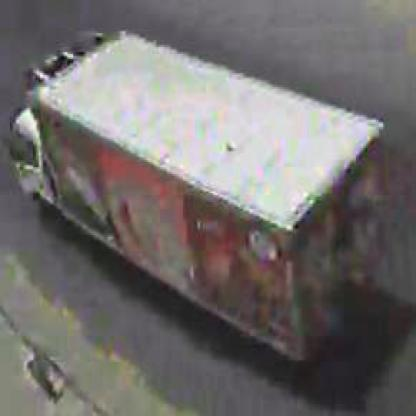truck: (11, 32, 386, 363)
